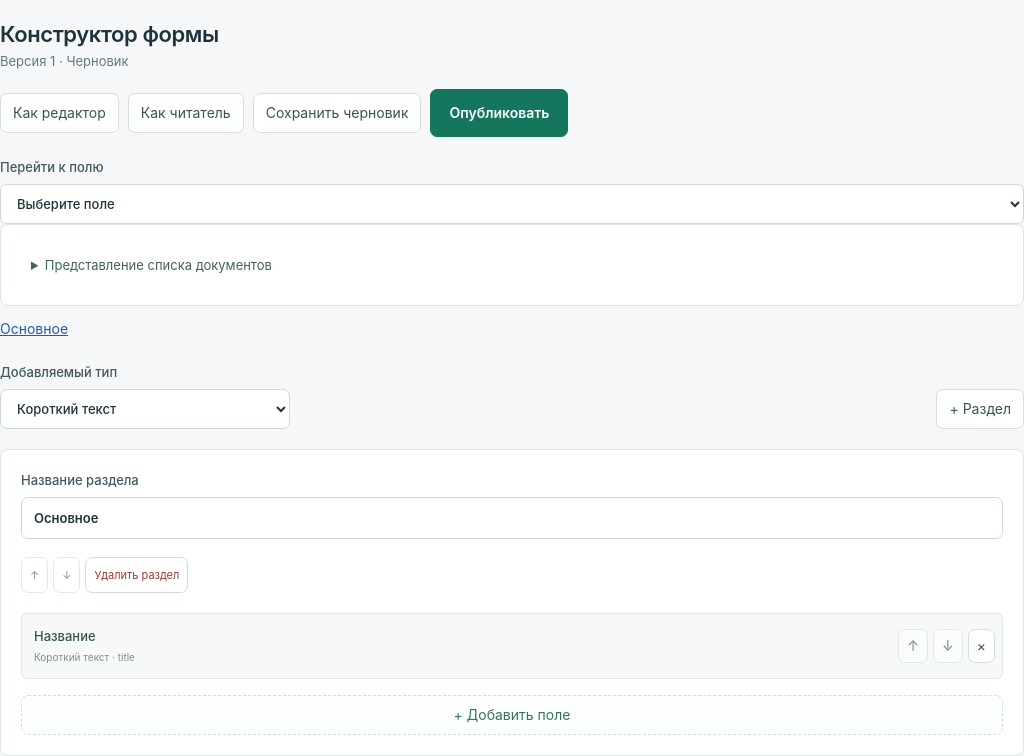
Test: keeps the last display mode enabled and explains the restriction
Check: the heading "Конструктор формы" is shown, box [0,17,219,51]
Click the button "Название Короткий текст · title" at (65, 636), box [29,621,893,671]
(page scrolled)
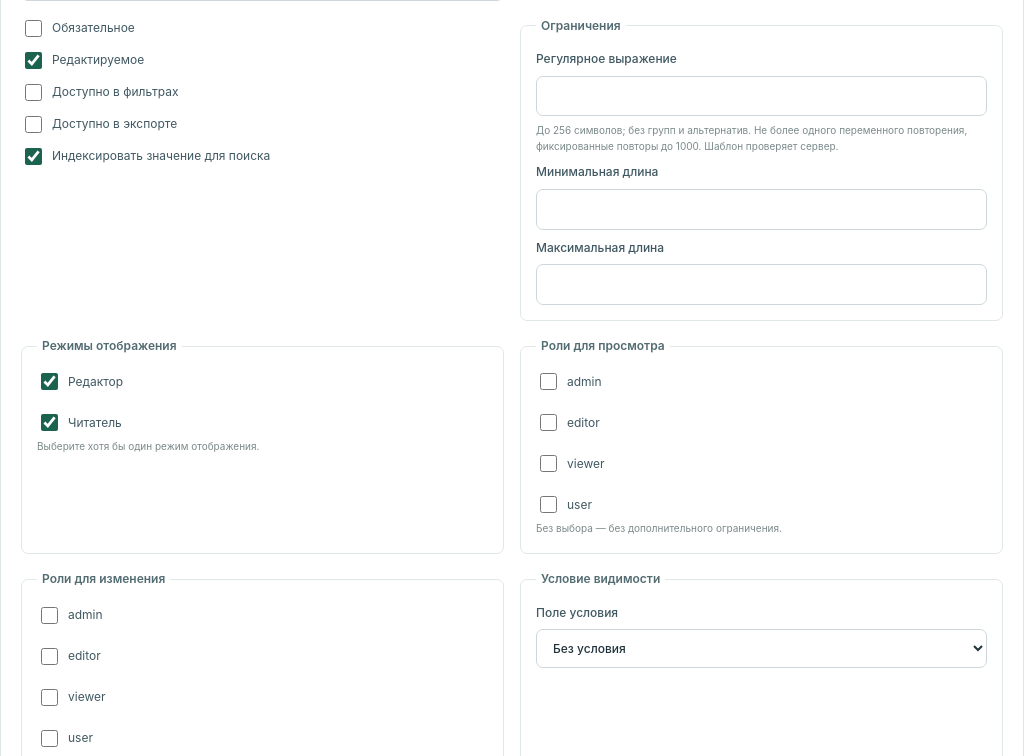
Click the checkbox labelled "Редактор" at (50, 382), box [41,373,58,390]
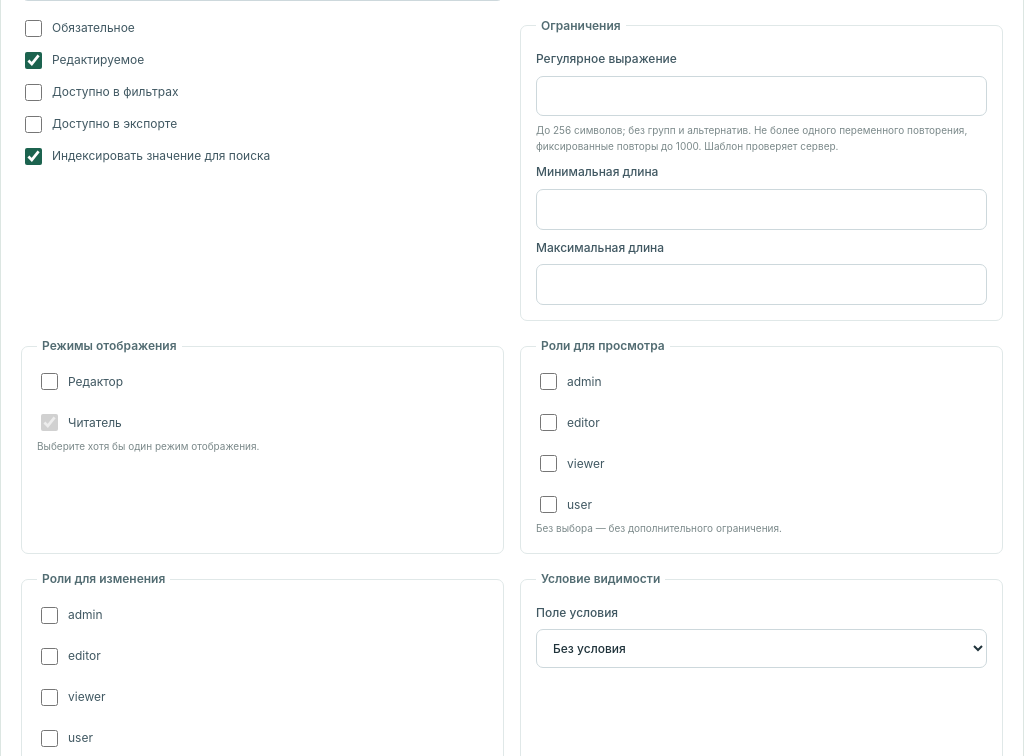
Check: the text "Выберите хотя бы один режим отображения." is shown, box [37,440,259,452]
Check: the checkbox labelled "Читатель" is disabled, box [41,414,58,431]
